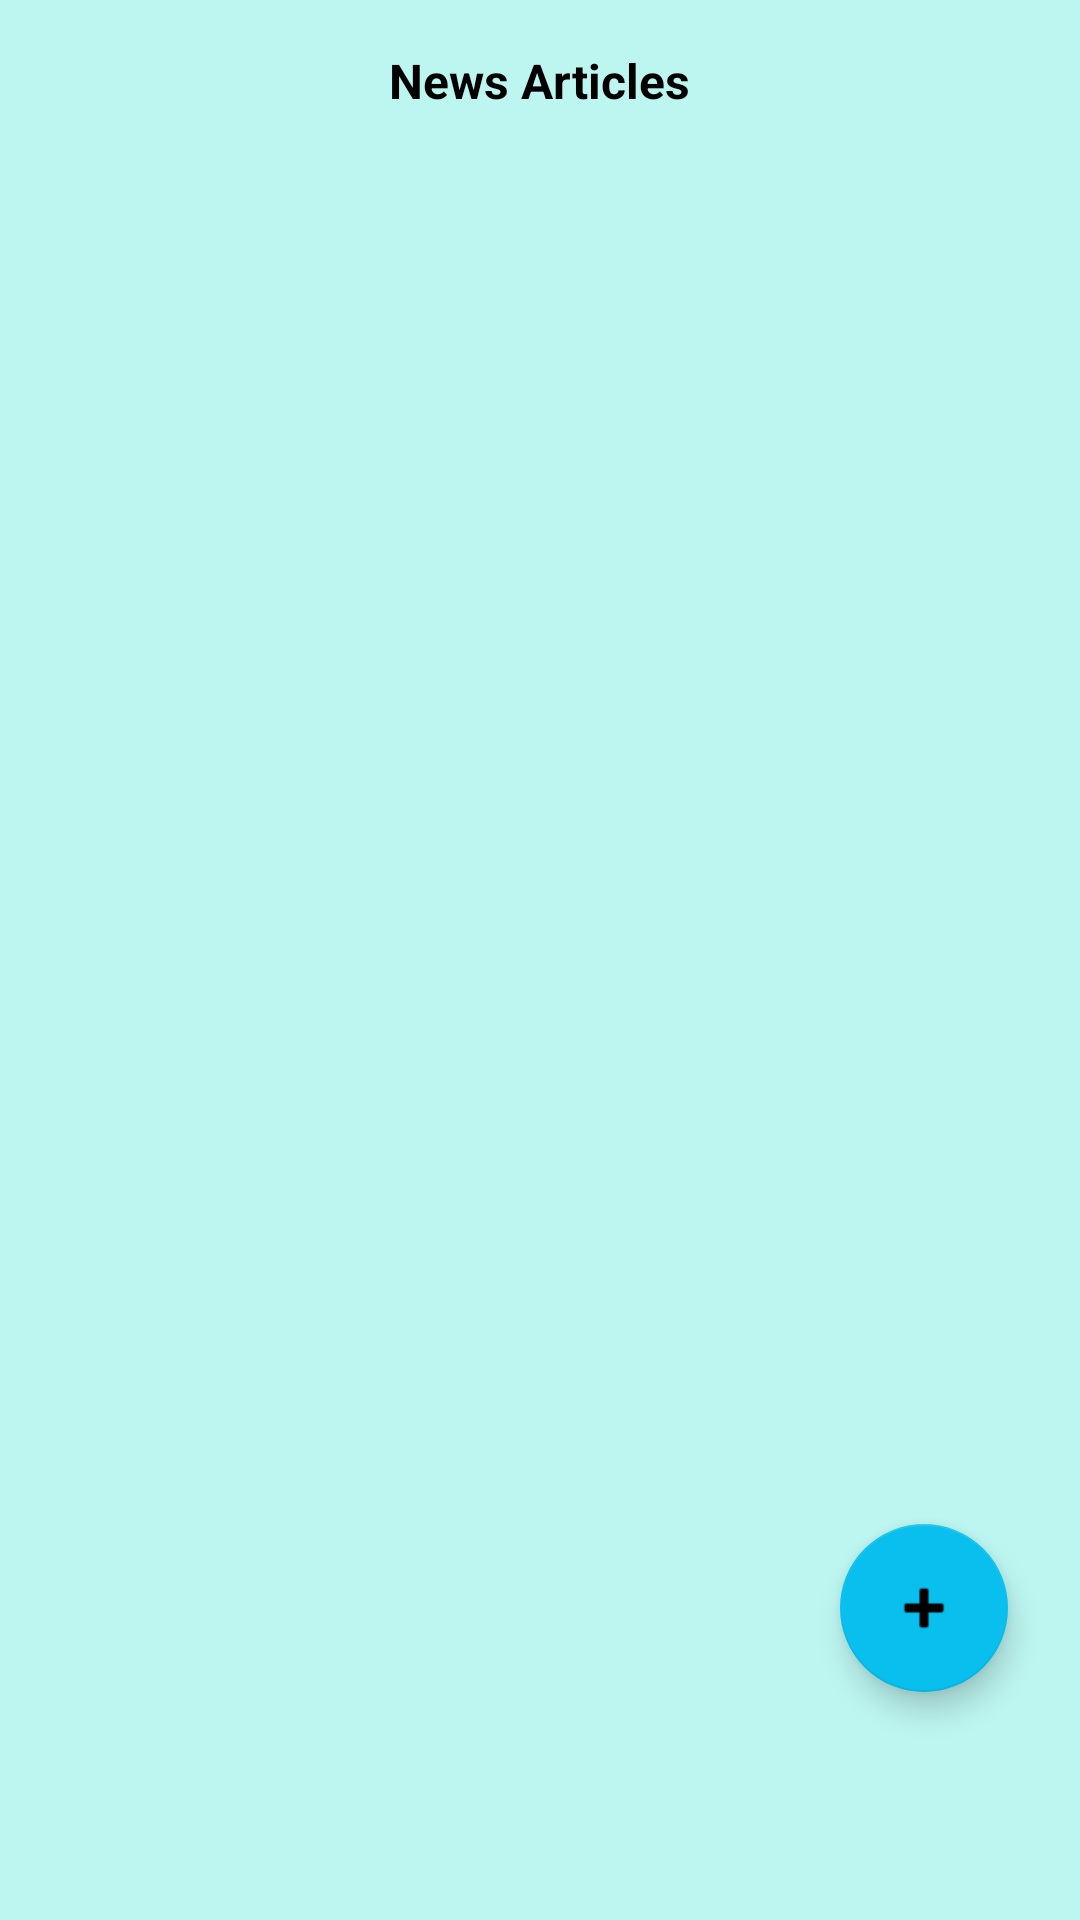

Screen size 1080 x 1920. Icon name, then its center in pixels as [x,y]:
add: [924,1608]
